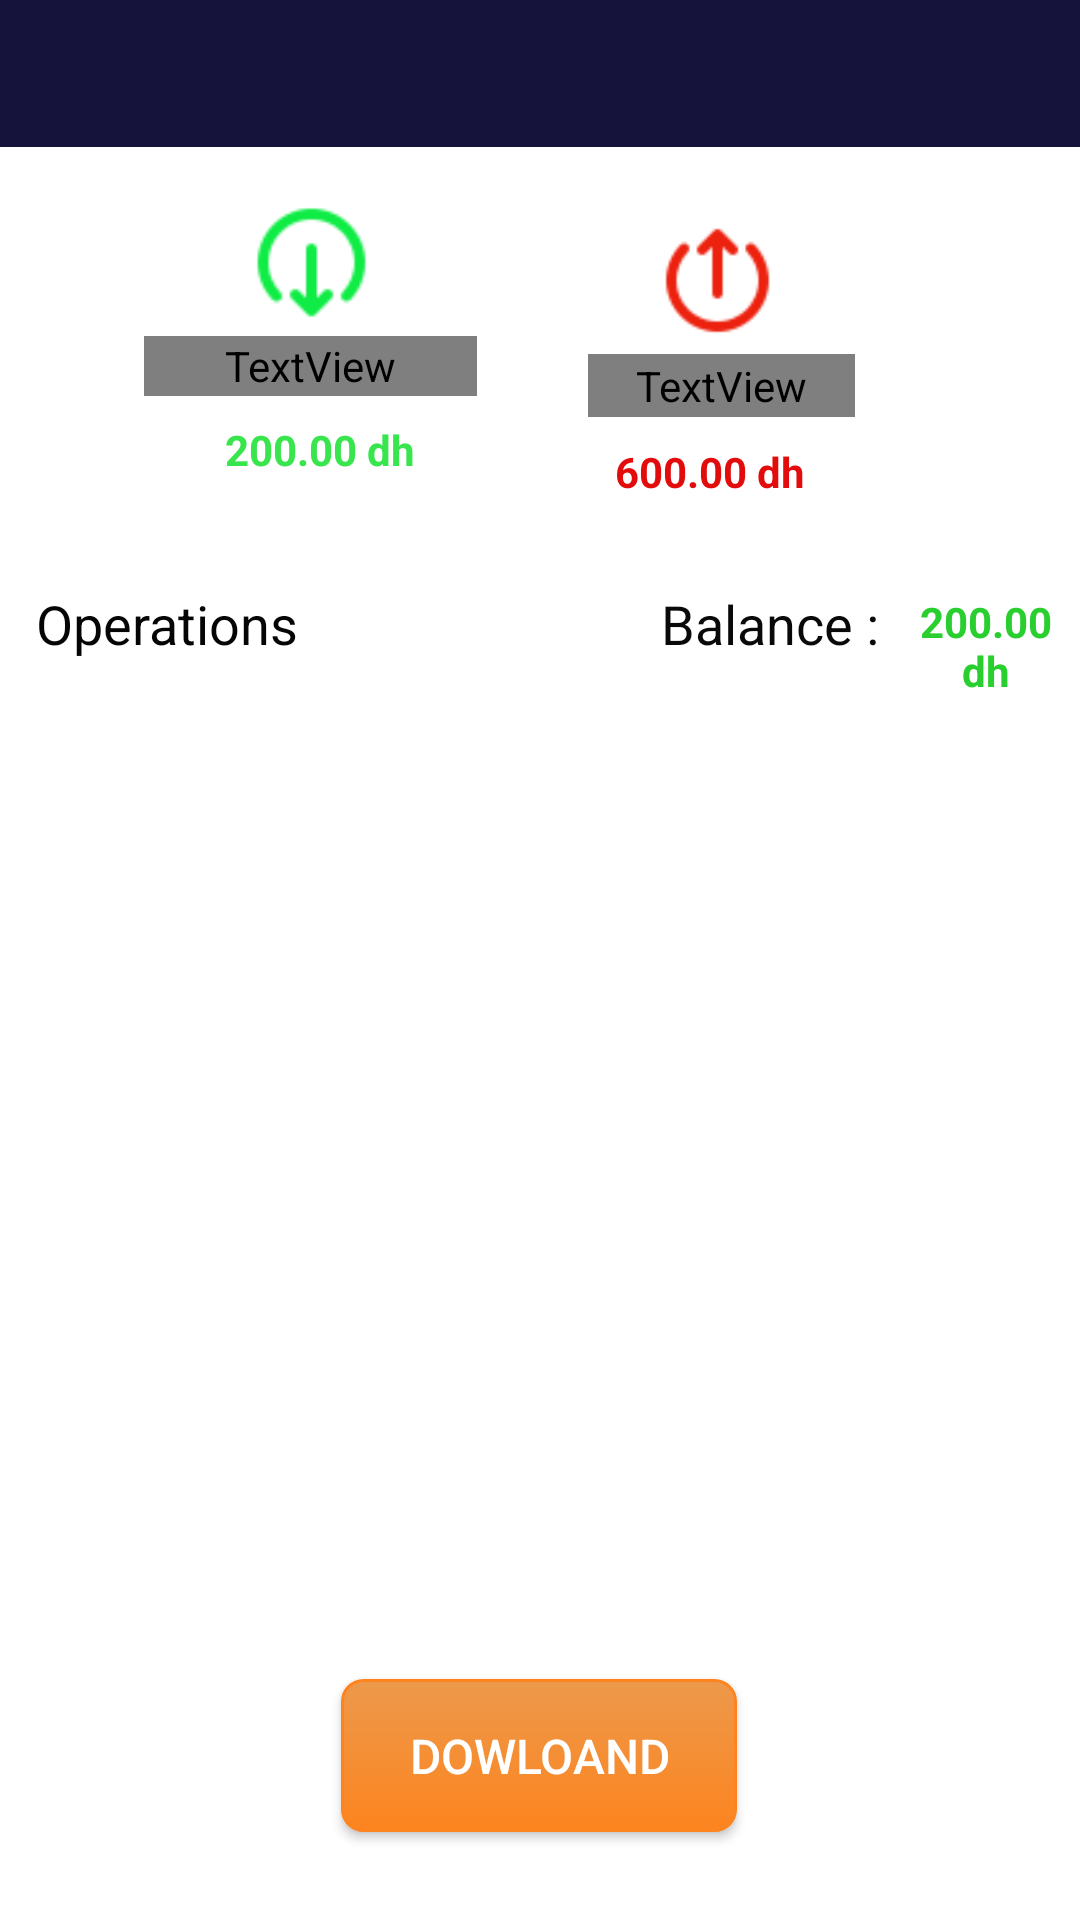

Icon bounding boxes for this 1080x1920 phone screenshot, format (x1, y1, x2, y2):
cashin: (257, 208, 366, 317)
cashout: (665, 228, 770, 333)
